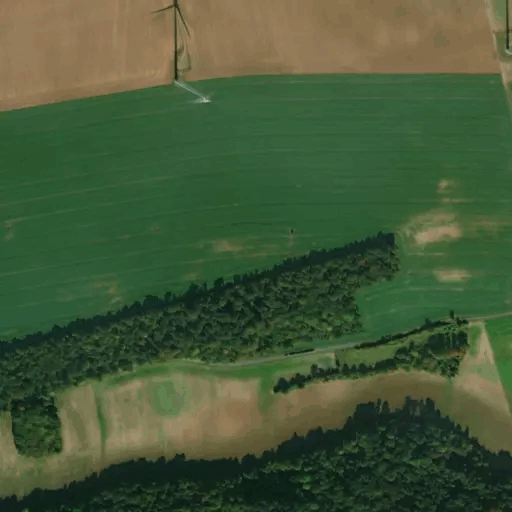wt: (150, 1, 216, 106)
